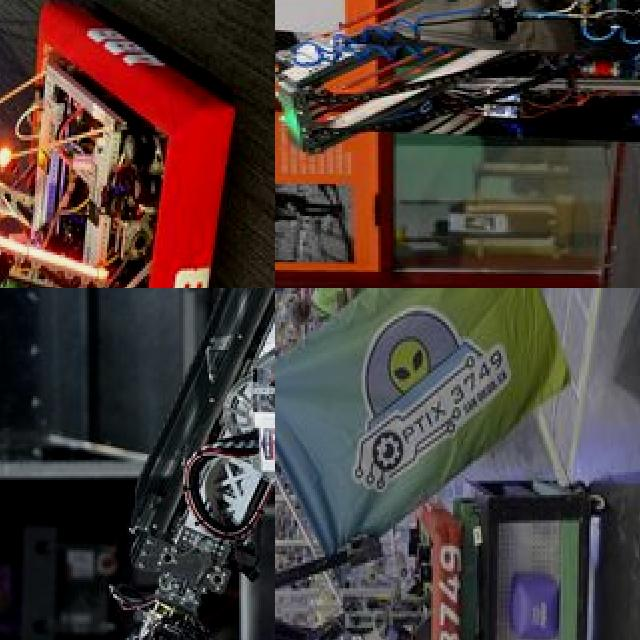FRC-Robots: (275, 0, 640, 275), (60, 288, 275, 640), (0, 0, 213, 288), (275, 488, 468, 640)
